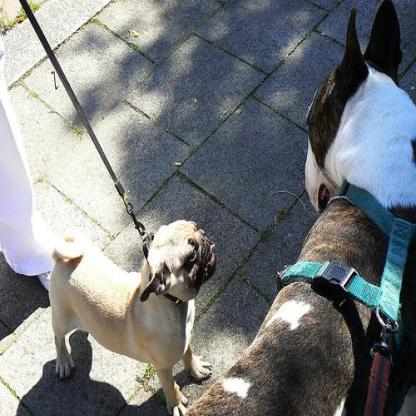pug: (48, 216, 217, 414)
